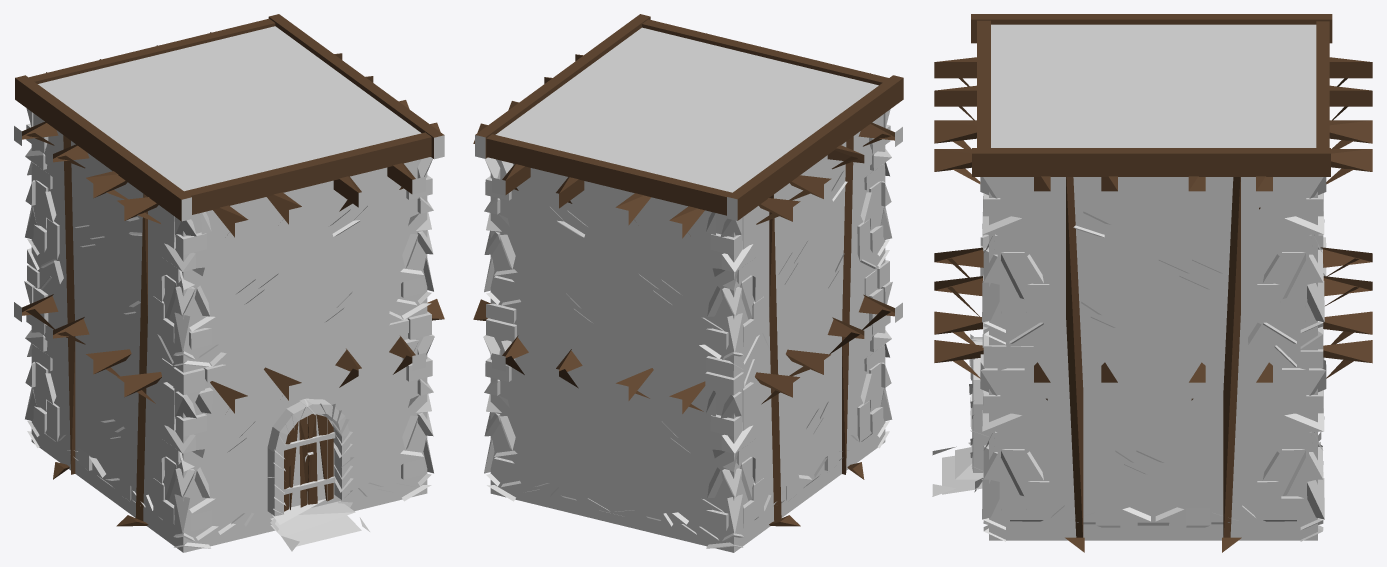
The model's file is mv_house3.glb.
3 renders of one model, left to right at view 1: azimuth 30°, elevation 25°; view 2: azimuth 150°, elevation 25°; view 3: azimuth 270°, elevation 25°, orthographic. The views are drawn at different scales.
Visible parts, largest first — view 1: S_House_3; view 2: S_House_3; view 3: S_House_3.
Part boxes in pixels (<box>): S_House_3: <box>14,14,444,552</box>; S_House_3: <box>473,14,903,552</box>; S_House_3: <box>932,14,1372,552</box>.
Bounding box in the file's own units: 1.94 × 2.09 × 2.12.
